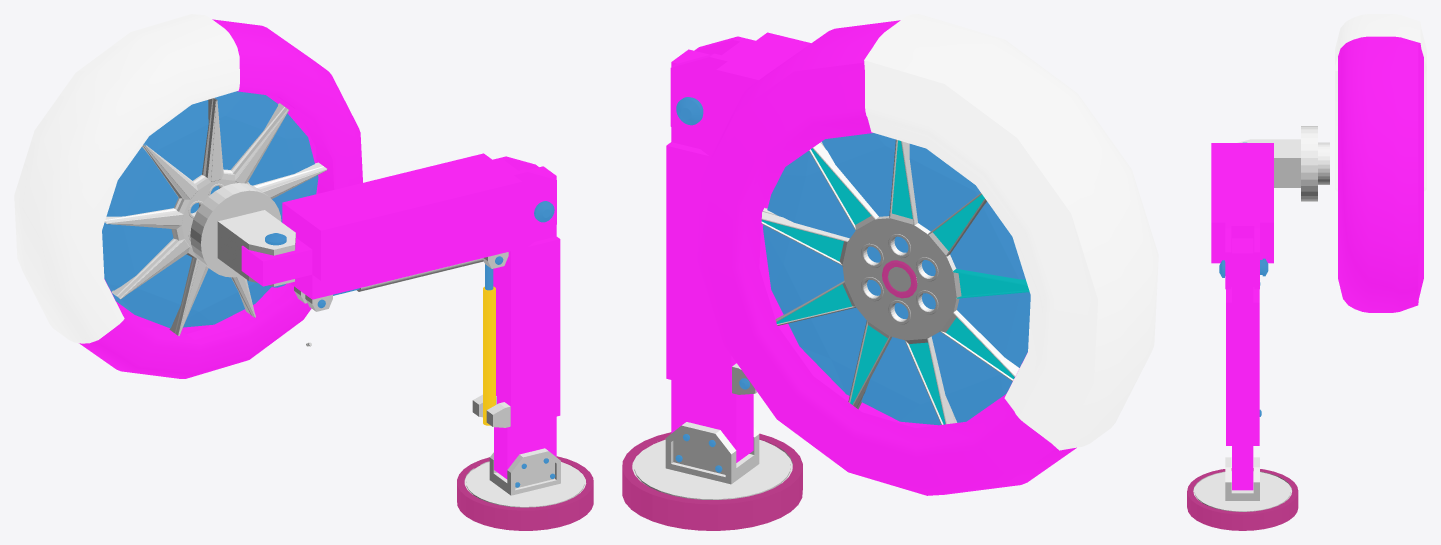
3 views of the same model, side by side, from view 1: azimuth 30°, elevation 25°; view 2: azimuth 150°, elevation 25°; view 3: azimuth 270°, elevation 25° (orthographic). The views are drawn at different scales.
Visible parts, largest first — view 1: ban_2.043, Plane.067, ban_2.044, Cube.011, Cylinder.046, Plane.066, Circle.155, Circle.156, Plane.071, Cylinder.042, Circle.161, Plane.068; view 2: ban_2.043, ban_2.044, Cylinder.045, Cube.011, Plane.066, Plane.067, Circle.155, Circle.161; view 3: ban_2.043, Cube.011, Plane.067, Plane.066, Circle.155, Circle.156, Plane.071.
Part boxes in pixels (<box>): ban_2.043: <box>14,14,362,378</box>; Plane.067: <box>241,153,556,299</box>; ban_2.044: <box>102,91,318,328</box>; Cube.011: <box>493,166,560,479</box>; Cylinder.046: <box>104,98,326,335</box>; Plane.066: <box>464,448,586,507</box>; Circle.155: <box>457,456,593,530</box>; Circle.156: <box>190,183,281,277</box>; Plane.071: <box>217,210,295,286</box>; Cylinder.042: <box>483,286,495,425</box>; Circle.161: <box>265,201,555,487</box>; Plane.068: <box>472,394,510,427</box>; ban_2.043: <box>697,14,1158,495</box>; ban_2.044: <box>763,133,1030,425</box>; Cylinder.045: <box>761,139,1029,424</box>; Cube.011: <box>666,49,753,462</box>; Plane.066: <box>632,422,792,499</box>; Plane.067: <box>670,32,810,156</box>; Circle.155: <box>622,432,802,530</box>; Circle.161: <box>675,97,749,472</box>; ban_2.043: <box>1335,14,1426,312</box>; Cube.011: <box>1226,238,1259,490</box>; Plane.067: <box>1211,143,1273,289</box>; Plane.066: <box>1193,457,1292,511</box>; Circle.155: <box>1187,468,1298,530</box>; Circle.156: <box>1301,126,1329,201</box>; Plane.071: <box>1237,139,1300,187</box>.
Size of the model in its own units: 22.69 by 21.78 by 12.37.
